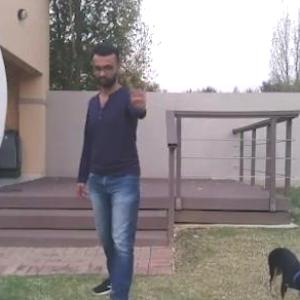takeoff-hand: (126, 71, 154, 117)
